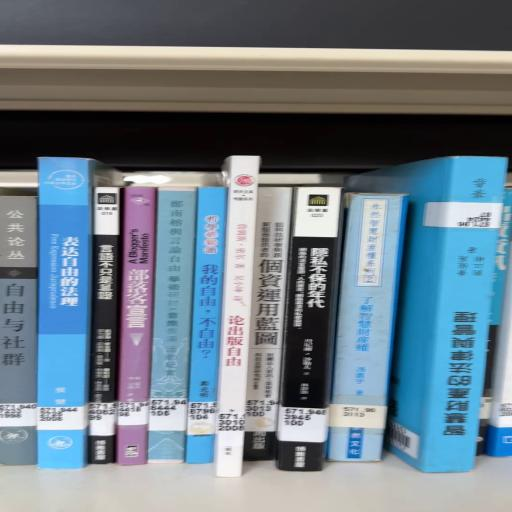reverse: (346, 156, 507, 473)
